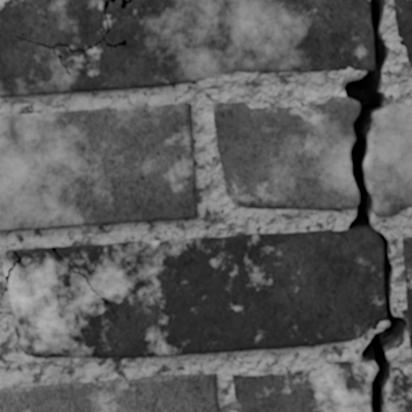brick: (8, 230, 384, 357), (0, 0, 373, 95), (0, 103, 196, 230), (0, 374, 218, 411), (394, 0, 411, 66), (402, 237, 411, 350), (2, 249, 16, 274)
broken_brick: (212, 95, 357, 210), (232, 360, 376, 411), (365, 102, 411, 216), (387, 367, 411, 411)
crack: (343, 0, 409, 411), (51, 247, 118, 320), (5, 249, 21, 285)
